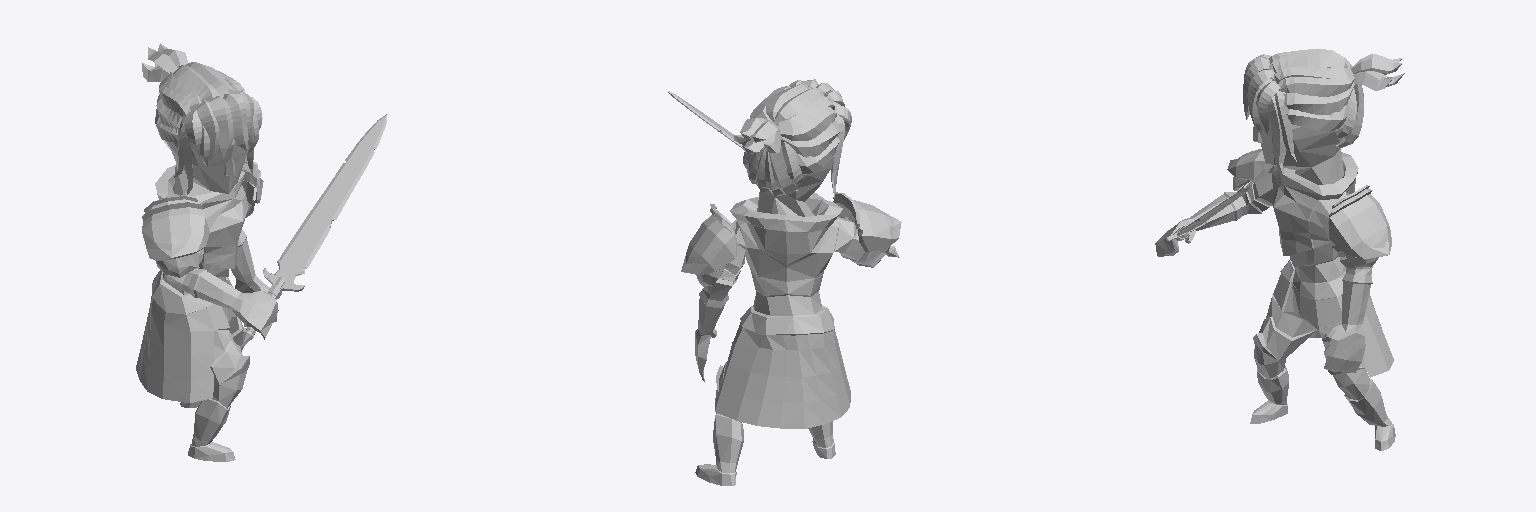
3 views of the same model, side by side, from view 1: azimuth 30°, elevation 25°; view 2: azimuth 150°, elevation 25°; view 3: azimuth 270°, elevation 25° (orthographic).
Visible parts, largest first — view 1: Warrior.002__ncl1_29.005, Face__ncl1_29.002, Warrior_Sword_Cylinder.001, Shoulder.R__ncl1_29.001, Shoulder.L__ncl1_29.000; view 2: Warrior.002__ncl1_29.005, Face__ncl1_29.002, Shoulder.L__ncl1_29.000, Shoulder.R__ncl1_29.001, Warrior_Sword_Cylinder.001; view 3: Warrior.002__ncl1_29.005, Face__ncl1_29.002, Shoulder.L__ncl1_29.000, Shoulder.R__ncl1_29.001, Warrior_Sword_Cylinder.001.
Part boxes in pixels (left/top/right/bottom): Warrior.002__ncl1_29.005: left=136, top=116, right=278, bottom=461; Face__ncl1_29.002: left=142, top=43, right=262, bottom=194; Warrior_Sword_Cylinder.001: left=243, top=114, right=387, bottom=343; Shoulder.R__ncl1_29.001: left=142, top=195, right=209, bottom=277; Shoulder.L__ncl1_29.000: left=242, top=156, right=263, bottom=217; Warrior.002__ncl1_29.005: left=695, top=121, right=885, bottom=485; Face__ncl1_29.002: left=734, top=79, right=851, bottom=197; Shoulder.L__ncl1_29.000: left=681, top=204, right=737, bottom=286; Shoulder.R__ncl1_29.001: left=833, top=192, right=901, bottom=253; Warrior_Sword_Cylinder.001: left=668, top=91, right=899, bottom=257; Warrior.002__ncl1_29.005: left=1155, top=112, right=1395, bottom=450; Face__ncl1_29.002: left=1243, top=49, right=1404, bottom=175; Shoulder.L__ncl1_29.000: left=1328, top=185, right=1391, bottom=266; Shoulder.R__ncl1_29.001: left=1227, top=149, right=1272, bottom=191; Warrior_Sword_Cylinder.001: left=1166, top=187, right=1249, bottom=240.
Size of the model in its own units: 1.87 by 2.84 by 1.74.